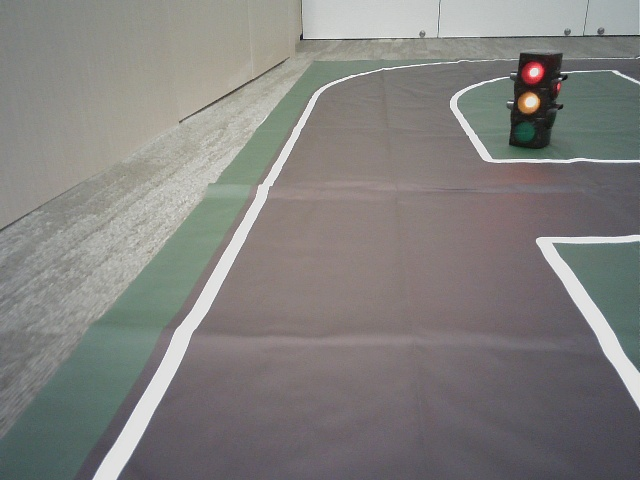red: (512, 57, 543, 144)
